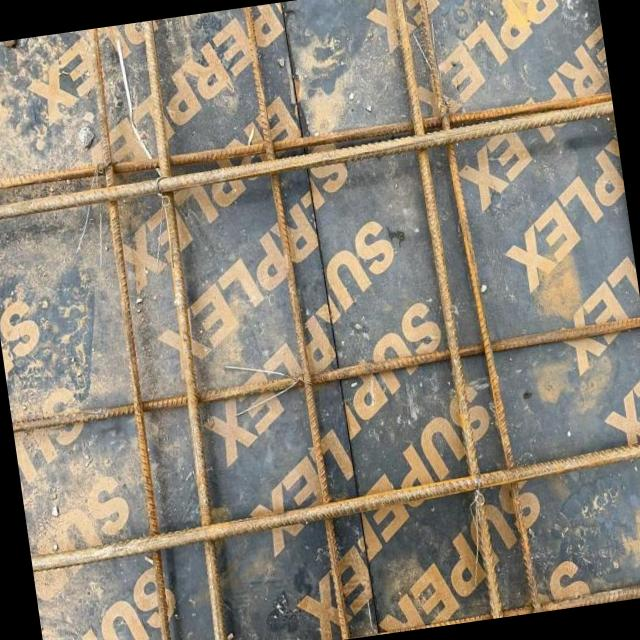ribbed bar: (26, 435, 640, 581), (9, 314, 640, 439), (415, 0, 543, 616), (0, 104, 617, 223), (125, 20, 242, 640), (240, 5, 351, 640), (390, 0, 503, 619), (74, 28, 186, 640), (0, 90, 613, 195), (505, 577, 640, 615)
